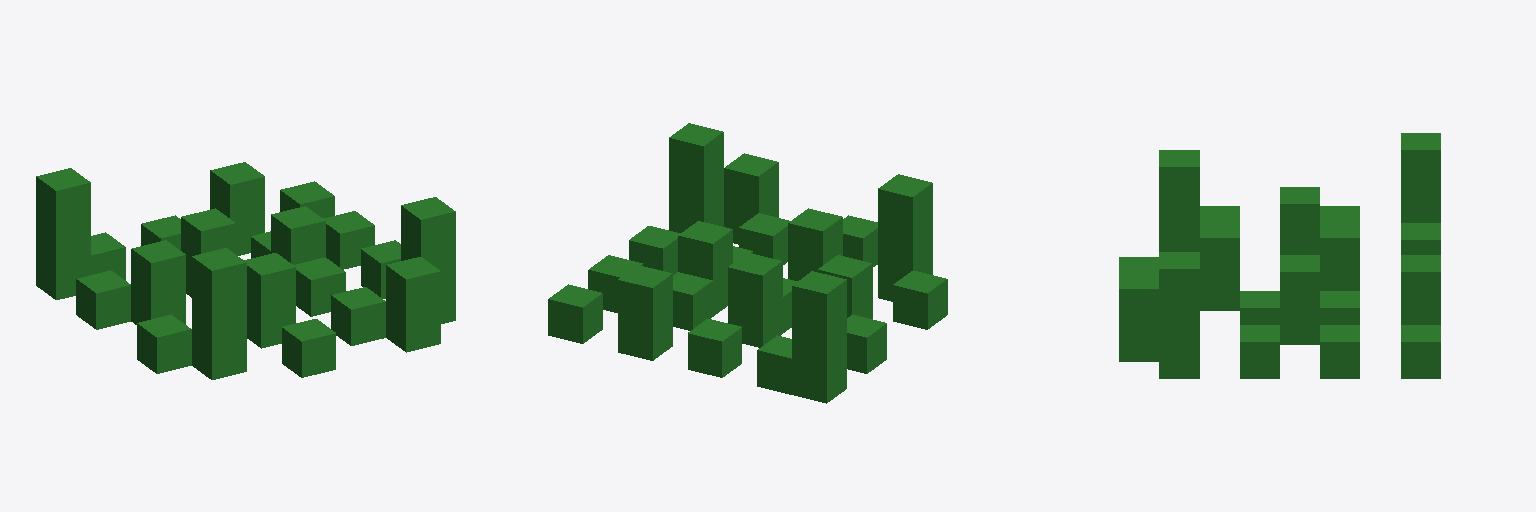
3 views of the same model, side by side, from view 1: azimuth 30°, elevation 25°; view 2: azimuth 150°, elevation 25°; view 3: azimuth 270°, elevation 25° (orthographic).
Parts seen in each view (by area): view 1: object 1; view 2: object 1; view 3: object 1.
Part boxes in pixels (bbox=[...]): object 1: bbox=[36, 162, 455, 379]; object 1: bbox=[548, 123, 947, 403]; object 1: bbox=[1119, 133, 1440, 378].
Bounding box in the file's own units: 0.8 × 0.3 × 0.8.
Materials: 1 (1 with a texture image).